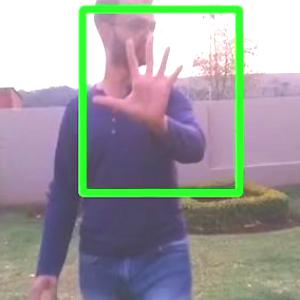follow_hand: (91, 25, 188, 129)
